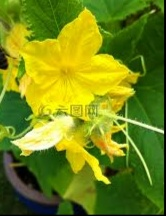cucumber_plant: (11, 4, 139, 210)
